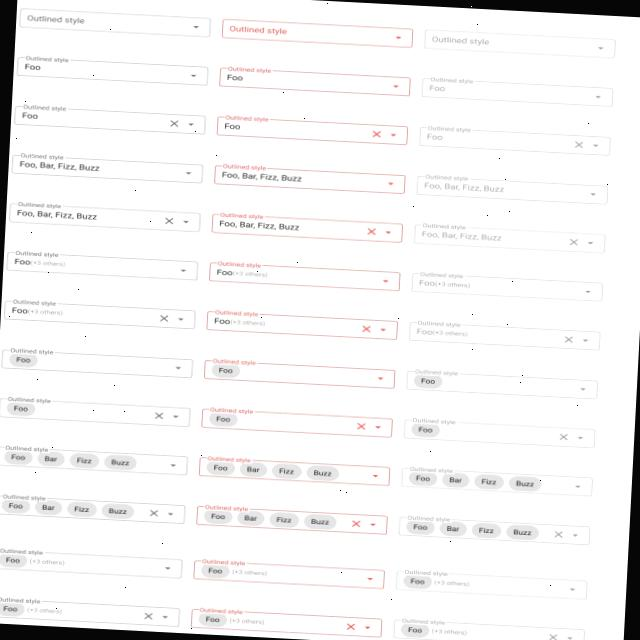VCombobox: (420, 74, 614, 108), (12, 102, 207, 135), (4, 248, 199, 281), (214, 113, 409, 146), (0, 346, 194, 379), (402, 416, 596, 449), (212, 162, 406, 195), (412, 221, 605, 254), (14, 54, 210, 86), (416, 124, 612, 156), (396, 514, 592, 546), (196, 454, 392, 486), (190, 557, 386, 589), (206, 260, 402, 292), (414, 173, 609, 205), (409, 270, 604, 302), (406, 319, 601, 351), (399, 465, 594, 497), (393, 568, 588, 600), (199, 406, 394, 438), (188, 606, 383, 638), (201, 357, 396, 389), (217, 65, 412, 97), (204, 308, 399, 340), (10, 151, 204, 183), (2, 298, 196, 330), (210, 211, 404, 243), (0, 395, 192, 427), (0, 443, 189, 475), (422, 28, 616, 59), (404, 368, 598, 399), (0, 546, 183, 578), (220, 18, 415, 48), (194, 504, 388, 534), (8, 202, 202, 232), (18, 7, 211, 37), (0, 596, 181, 627), (0, 493, 186, 523), (390, 616, 585, 640)
